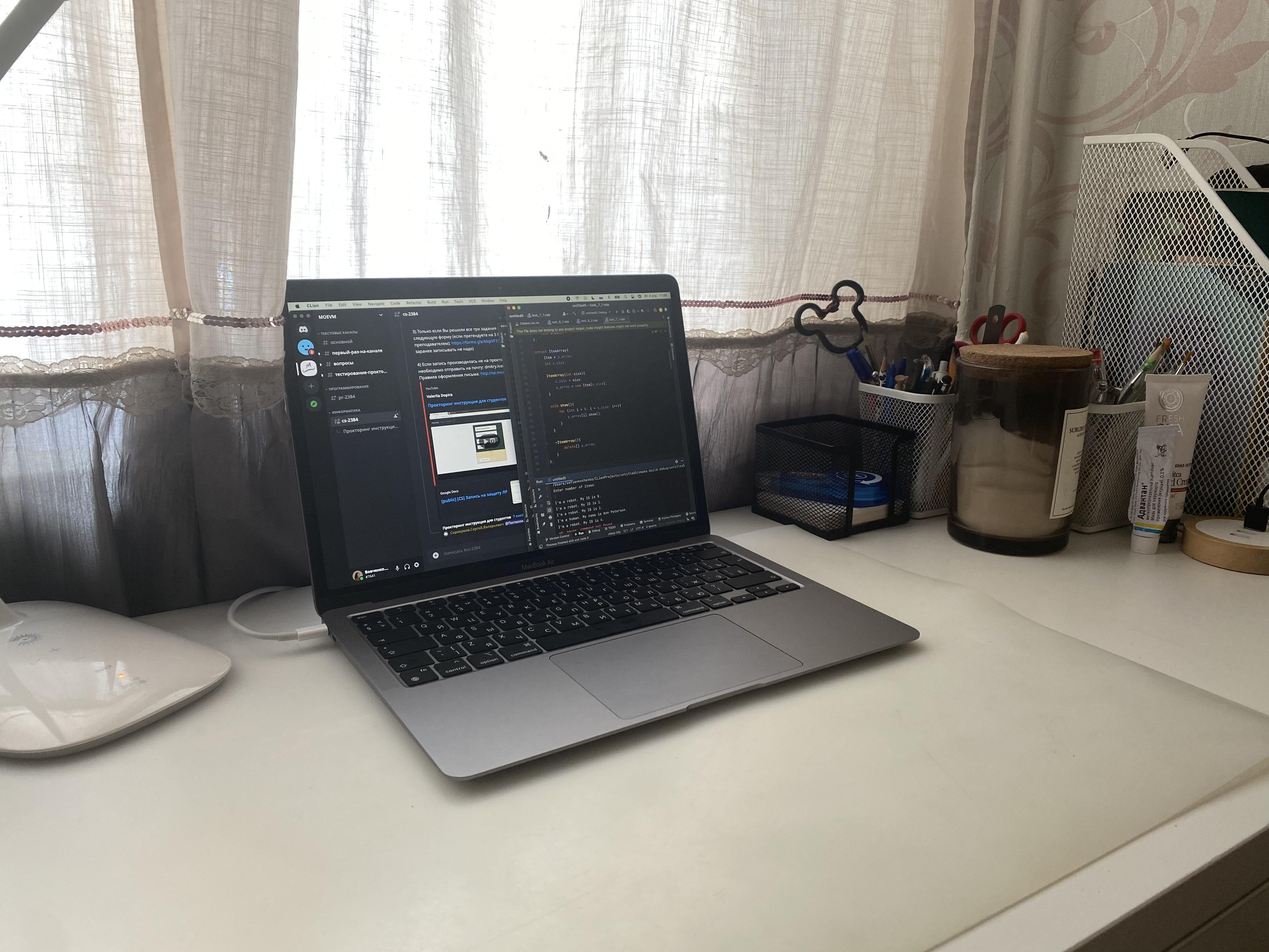monitor: (275, 268, 708, 612)
